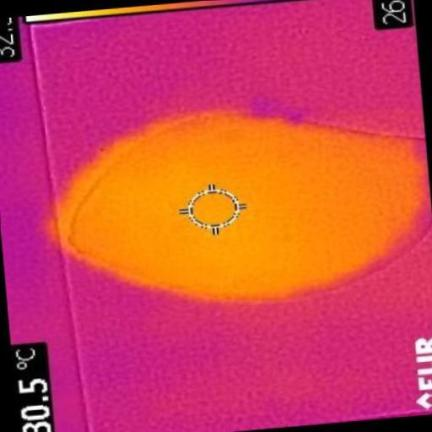mango: (60, 113, 429, 300)
